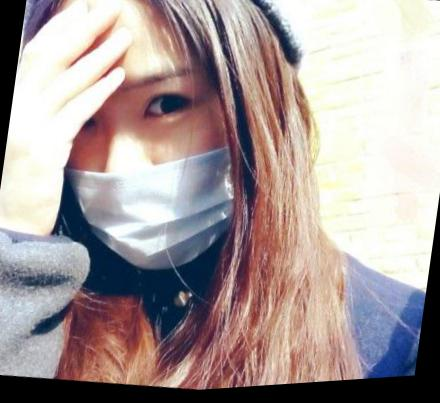WRONG: (36, 51, 254, 287)
